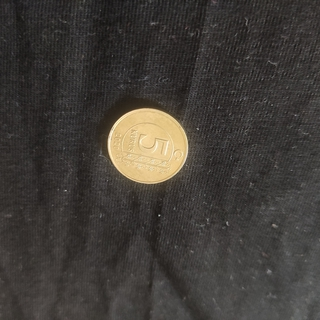5KURUS: (105, 106, 190, 186)
